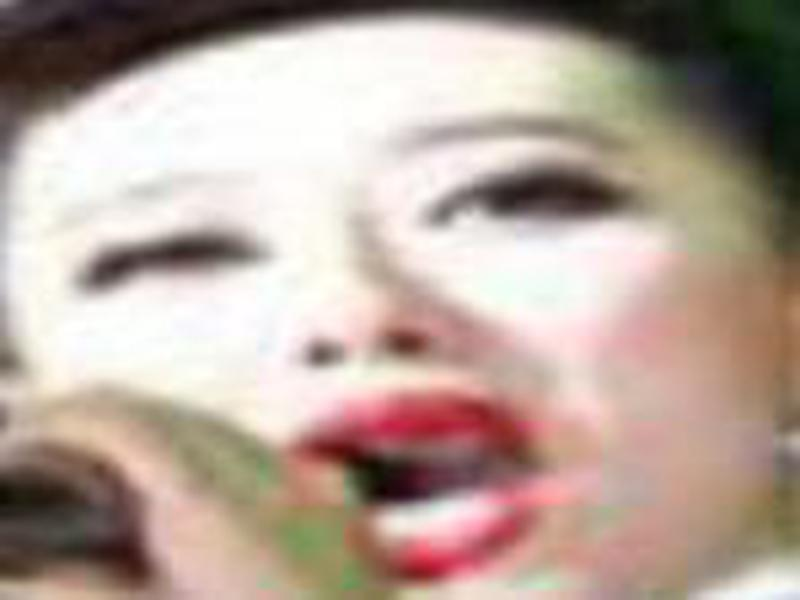without_mask: (10, 55, 772, 599)
